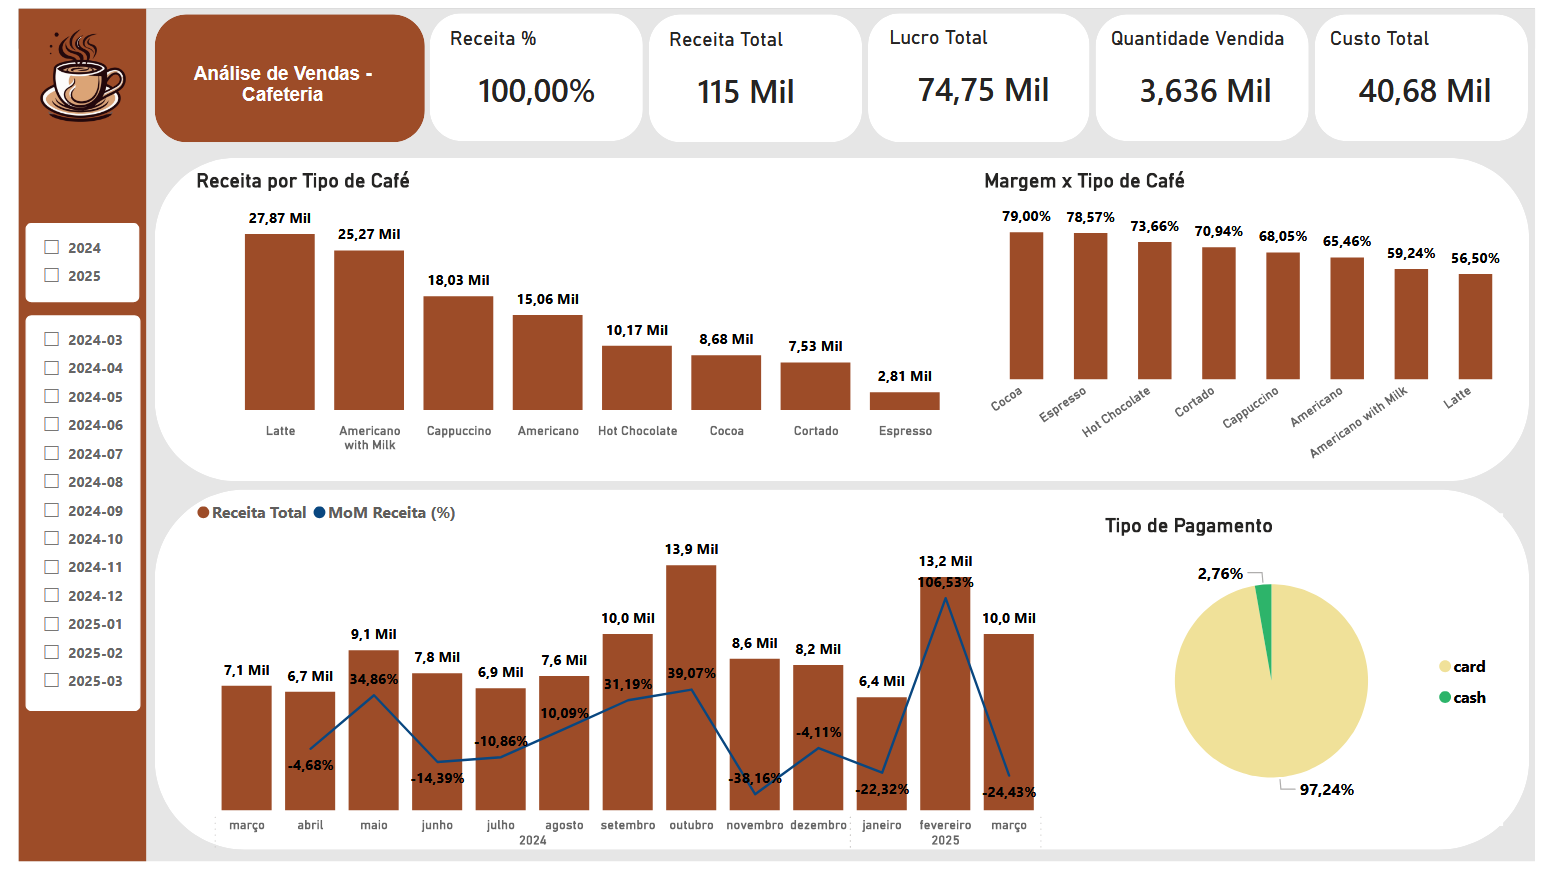

The page's visual inventory and layout, read from the dashboard file:
{"tool":"powerbi","page":{"name":"Dashboard","canvas":[1280,720],"ordinal":0},"visuals":[{"type":"shape","box":[0,0,1280,720],"z":0},{"type":"group","id":"g1","title":"Grupo 1","box":[1093.8,5.2,180,107.3],"z":0,"group":"g11"},{"type":"shape","box":[0,0,108.4,720.4],"z":1000},{"type":"image","box":[11.4,13.6,85.7,84.8],"z":1000,"group":"g10"},{"type":"cardVisual","title":"Custo Total","fields":{"Data":["index_1.Custo Total"]},"box":[1102,15.1,172.7,83.6],"z":1000,"group":"g11"},{"type":"shape","box":[347.3,4.4,180.2,107.7],"z":1500,"group":"g6"},{"type":"shape","box":[531.9,5.2,180.2,107.7],"z":1500,"group":"g7"},{"type":"shape","box":[909.1,5.2,180,107.3],"z":1500,"group":"g5"},{"type":"shape","box":[1093.8,5.2,180,107.3],"z":1500,"group":"g1"},{"type":"shape","box":[114.5,126.4,1160.2,272.8],"z":1500,"group":"g8"},{"type":"shape","box":[716.6,4.4,186.9,108.6],"z":2000,"group":"g4"},{"type":"group","id":"g2","title":"Grupo 2","box":[114.5,5.2,228.2,107.5],"z":2000},{"type":"shape","box":[114.5,5.2,228.2,107.5],"z":2000,"group":"g2"},{"type":"group","id":"g3","title":"Grupo 3","box":[531.9,5.2,180.1,107.5],"z":3000},{"type":"textbox","box":[118.9,41.1,207.2,50.7],"z":3000,"group":"g2"},{"type":"shape","box":[114.5,406.4,1160,303.6],"z":3000,"group":"g9"},{"type":"group","id":"g4","title":"Grupo 4","box":[716.6,4.4,188,108.4],"z":4000},{"type":"group","id":"g5","title":"Grupo 1","box":[909.1,5.2,180,107.3],"z":4000,"group":"g12"},{"type":"group","id":"g6","title":"Grupo 1","box":[347.3,4.4,180.2,107.7],"z":5000,"group":"g13"},{"type":"group","id":"g7","title":"Grupo 1","box":[531.9,5.2,180.2,107.7],"z":5000,"group":"g3"},{"type":"cardVisual","title":"Quantidade Vendida","fields":{"Data":["CountNonNull(index_1.cash_type)"]},"box":[916.6,15.1,170,83.6],"z":5000,"group":"g12"},{"type":"group","id":"g8","title":"Grupo 5","box":[114.5,126.4,1160.2,273.2],"z":5000},{"type":"columnChart","title":"Receita por Tipo de Café","fields":{"Y":["index_1.Receita Total"],"Category":["index_1.coffee_name"]},"box":[144.2,135.1,668.9,247.4],"z":5000,"group":"g8"},{"type":"cardVisual","title":"Receita %","fields":{"Data":["index_1.% Receita por Tipo de Café (fixa)"]},"box":[359.6,15,161,84],"z":6000,"group":"g13"},{"type":"cardVisual","title":"Receita Total","fields":{"Data":["index_1.Receita Total"]},"box":[544.2,15.8,161,84],"z":6000,"group":"g3"},{"type":"slicer","fields":{"Values":["Calendario.AnoMes"]},"box":[6.4,259.1,96.4,333.6],"z":6000},{"type":"lineStackedColumnComboChart","fields":{"Y":["index_1.Receita Total"],"Y2":["index_1.MoM Receita (%)"],"Category":["Calendario.Date.Variation.Hierarquia de datas.Ano","Calendario.Date.Variation.Hierarquia de datas.Mês"]},"box":[144.5,405.5,739.1,314.5],"z":6000,"group":"g9"},{"type":"cardVisual","title":"Lucro Total","fields":{"Data":["index_1.Lucro Total"]},"box":[729.8,14.4,170,84.7],"z":7000,"group":"g4"},{"type":"columnChart","title":"Margem x Tipo de Café","fields":{"Category":["index_1.coffee_name"],"Y":["index_1.Margem (%)"]},"box":[809.6,135.6,461.6,264],"z":7000,"group":"g8"},{"type":"group","id":"g9","title":"Grupo 6","box":[114.5,405.5,1160,314.5],"z":7000},{"type":"group","id":"g10","title":"Grupo 7","box":[6,13.6,96.4,234],"z":8000},{"type":"pieChart","title":"Tipo de Pagamento","fields":{"Y":["index_1.Receita Total"],"Category":["index_1.cash_type"]},"box":[911.8,426.4,340.9,263.6],"z":8000,"group":"g9"},{"type":"slicer","fields":{"Values":["Calendario.Ano"]},"box":[6,180.3,96.4,67.3],"z":8001,"group":"g10"},{"type":"group","id":"g11","title":"Grupo 8","box":[1093.8,5.2,181,107.5],"z":9000},{"type":"group","id":"g12","title":"Grupo 9","box":[909.1,5.2,180.1,107.5],"z":10000},{"type":"group","id":"g13","title":"Grupo 3","box":[347.3,4.4,180.1,108.4],"z":11000}]}

Visuals, with their boxes in screenshot pixels (x1, y1, x2, y2), scaled from the page's 1280x720 canvas onto the 1547x878 screenshot:
shape: 0, 0, 1546, 877
"Grupo 1" group: 1322, 6, 1540, 137
shape: 0, 0, 131, 877
image: 14, 17, 117, 120
"Custo Total" cardVisual: 1332, 18, 1541, 120
shape: 420, 5, 638, 137
shape: 643, 6, 861, 138
shape: 1099, 6, 1316, 137
shape: 1322, 6, 1540, 137
shape: 138, 154, 1541, 487
shape: 866, 5, 1092, 138
"Grupo 2" group: 138, 6, 414, 137
shape: 138, 6, 414, 137
"Grupo 3" group: 643, 6, 861, 137
textbox: 144, 50, 394, 112
shape: 138, 496, 1540, 866
"Grupo 4" group: 866, 5, 1093, 138
"Grupo 1" group: 1099, 6, 1316, 137
"Grupo 1" group: 420, 5, 638, 137
"Grupo 1" group: 643, 6, 861, 138
"Quantidade Vendida" cardVisual: 1108, 18, 1313, 120
"Grupo 5" group: 138, 154, 1541, 487
"Receita por Tipo de Café" columnChart: 174, 165, 983, 466
"Receita %" cardVisual: 435, 18, 629, 121
"Receita Total" cardVisual: 658, 19, 852, 122
slicer - Calendario.AnoMes: 8, 316, 124, 723
lineStackedColumnComboChart - index_1.Receita Total x index_1.MoM Receita (%): 175, 494, 1068, 877
"Lucro Total" cardVisual: 882, 18, 1087, 121
"Margem x Tipo de Café" columnChart: 978, 165, 1536, 487
"Grupo 6" group: 138, 494, 1540, 877
"Grupo 7" group: 7, 17, 124, 302
"Tipo de Pagamento" pieChart: 1102, 520, 1514, 841
slicer - Calendario.Ano: 7, 220, 124, 302
"Grupo 8" group: 1322, 6, 1541, 137
"Grupo 9" group: 1099, 6, 1316, 137
"Grupo 3" group: 420, 5, 637, 138
